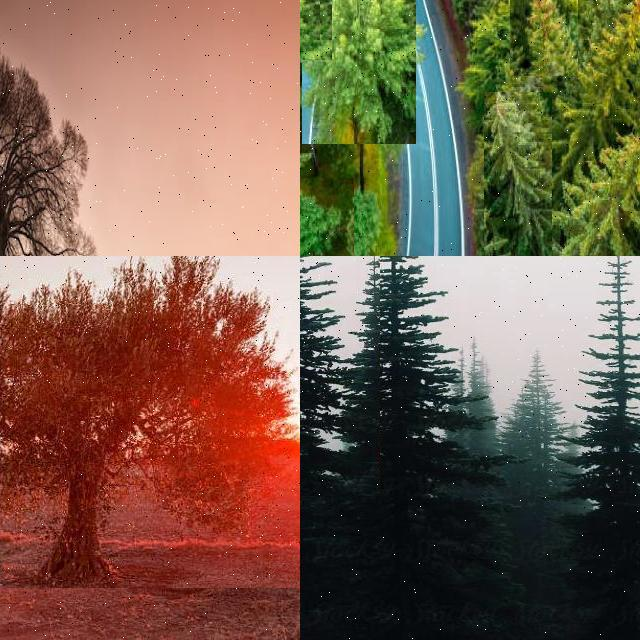tree: (0, 256, 300, 588), (324, 256, 500, 512), (0, 12, 110, 256), (566, 256, 640, 616), (300, 256, 380, 496), (302, 0, 416, 144), (548, 120, 640, 256), (300, 0, 356, 216), (484, 92, 552, 256), (300, 256, 348, 464), (501, 344, 571, 484), (575, 0, 640, 134), (505, 0, 563, 102), (448, 338, 500, 446), (510, 0, 578, 76), (300, 178, 354, 256), (570, 0, 630, 64), (300, 0, 332, 60), (300, 0, 332, 58), (300, 0, 316, 72), (300, 0, 320, 56), (300, 0, 320, 40), (300, 0, 318, 36), (300, 0, 316, 38)
